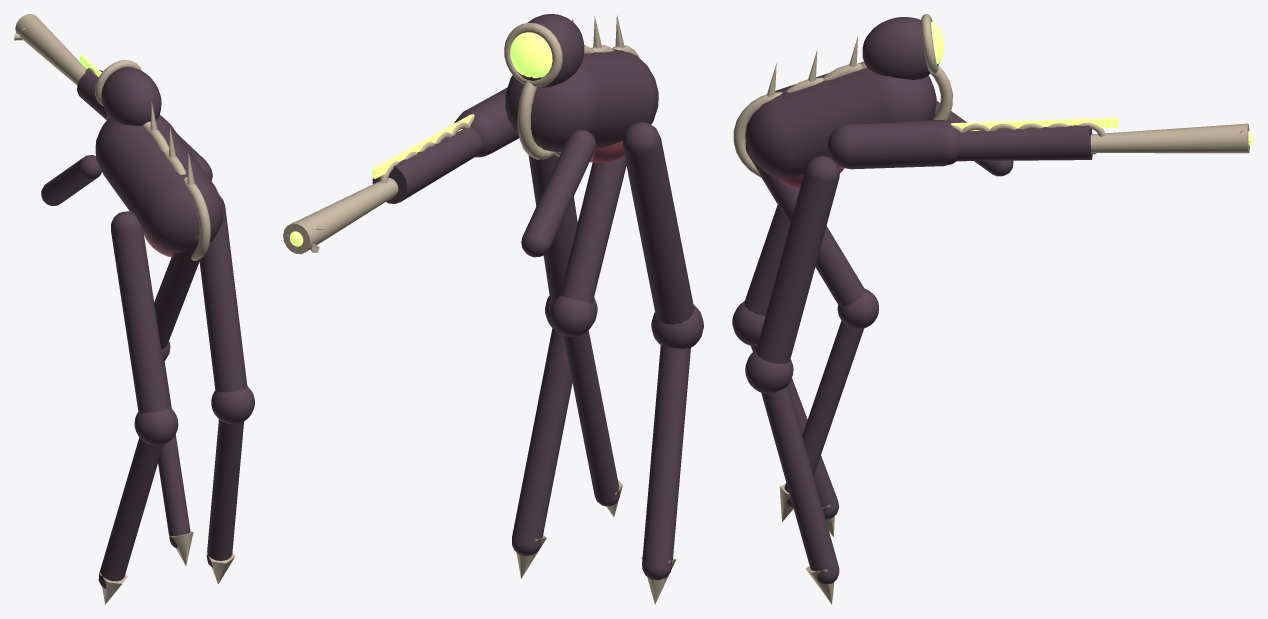
The model's file is grafted-brood-sniper.glb.
3 views of the same model, side by side, from view 1: azimuth 30°, elevation 25°; view 2: azimuth 150°, elevation 25°; view 3: azimuth 270°, elevation 25° (orthographic). The views are drawn at different scales.
Visible parts, largest first — view 1: thorax_shell, stilt_l_upper, stilt_r_upper, stilt_l_lower, stilt_r_lower, head_shell, stilt_rear_upper, stilt_rear_lower, limb_tip, brace_arm, thorax, stilt_l_knee (+5 smaller); view 2: thorax_shell, stilt_l_upper, stilt_l_lower, stilt_r_lower, stilt_rear_upper, stilt_rear_lower, brace_arm, limb_mid, limb_tip, stilt_r_upper, limb_root, head_shell (+6 smaller); view 3: thorax_shell, stilt_r_upper, limb_root, stilt_r_lower, limb_mid, limb_tip, stilt_rear_lower, head_shell, stilt_rear_upper, thorax, stilt_l_upper, stilt_r_knee (+4 smaller).
Boxes of the visible parts, bbox=[...] form: thorax_shell: bbox=[95, 115, 223, 253]; stilt_l_upper: bbox=[111, 211, 169, 413]; stilt_r_upper: bbox=[199, 195, 247, 392]; stilt_l_lower: bbox=[98, 437, 163, 588]; stilt_r_lower: bbox=[206, 419, 243, 567]; head_shell: bbox=[101, 67, 161, 125]; stilt_rear_upper: bbox=[154, 234, 200, 349]; stilt_rear_lower: bbox=[158, 361, 190, 547]; limb_tip: bbox=[15, 14, 86, 85]; brace_arm: bbox=[41, 155, 101, 205]; thorax: bbox=[106, 115, 210, 260]; stilt_l_knee: bbox=[134, 407, 178, 445]; thorax_shell: bbox=[505, 48, 658, 151]; stilt_l_upper: bbox=[622, 122, 694, 324]; stilt_l_lower: bbox=[642, 346, 690, 580]; stilt_r_lower: bbox=[512, 328, 572, 556]; stilt_rear_upper: bbox=[559, 155, 626, 303]; stilt_rear_lower: bbox=[563, 330, 620, 506]; brace_arm: bbox=[521, 130, 596, 257]; limb_mid: bbox=[372, 127, 482, 203]; limb_tip: bbox=[283, 177, 398, 254]; stilt_r_upper: bbox=[528, 154, 577, 302]; limb_root: bbox=[454, 87, 519, 157]; head_shell: bbox=[518, 14, 584, 87]; thorax_shell: bbox=[745, 62, 936, 179]; stilt_r_upper: bbox=[756, 156, 839, 364]; limb_root: bbox=[827, 120, 960, 169]; stilt_r_lower: bbox=[761, 385, 839, 584]; limb_mid: bbox=[956, 125, 1092, 161]; limb_tip: bbox=[1090, 123, 1249, 153]; stilt_rear_lower: bbox=[784, 320, 863, 507]; head_shell: bbox=[862, 17, 939, 79]; stilt_rear_upper: bbox=[745, 142, 864, 306]; thorax: bbox=[733, 61, 952, 177]; stilt_l_upper: bbox=[744, 205, 789, 316]; stilt_r_knee: bbox=[745, 349, 793, 393].
Size of the model in its own units: 0.5372 by 1.99 by 1.68.
